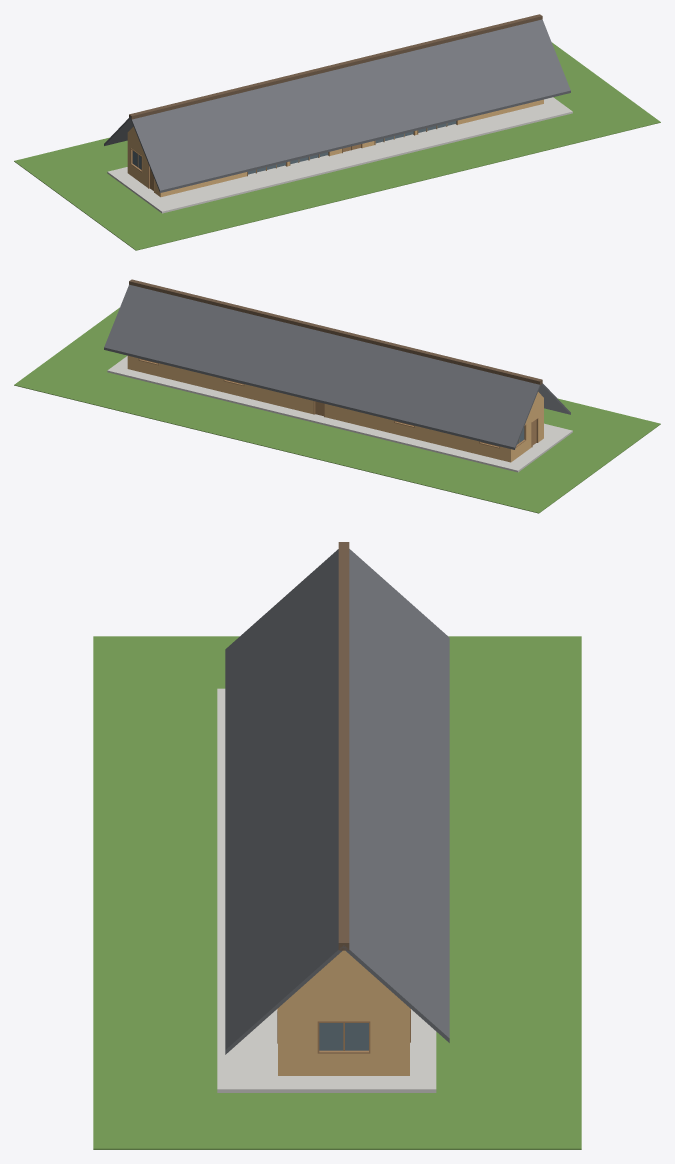
The model's file is cafeteria.glb.
3 renders of one model, top to bottom at view 1: azimuth 30°, elevation 25°; view 2: azimuth 150°, elevation 25°; view 3: azimuth 270°, elevation 25°, orthographic. The views are drawn at different scales.
Visible parts, largest first — view 1: Cafetería; view 2: Cafetería; view 3: Cafetería.
Part boxes in pixels (x1,y1,x2,y2): Cafetería: (14,14,660,250); Cafetería: (14,279,660,513); Cafetería: (93,542,581,1149).
Bounding box in the file's own units: 45.95 × 6.33 × 18.5.
